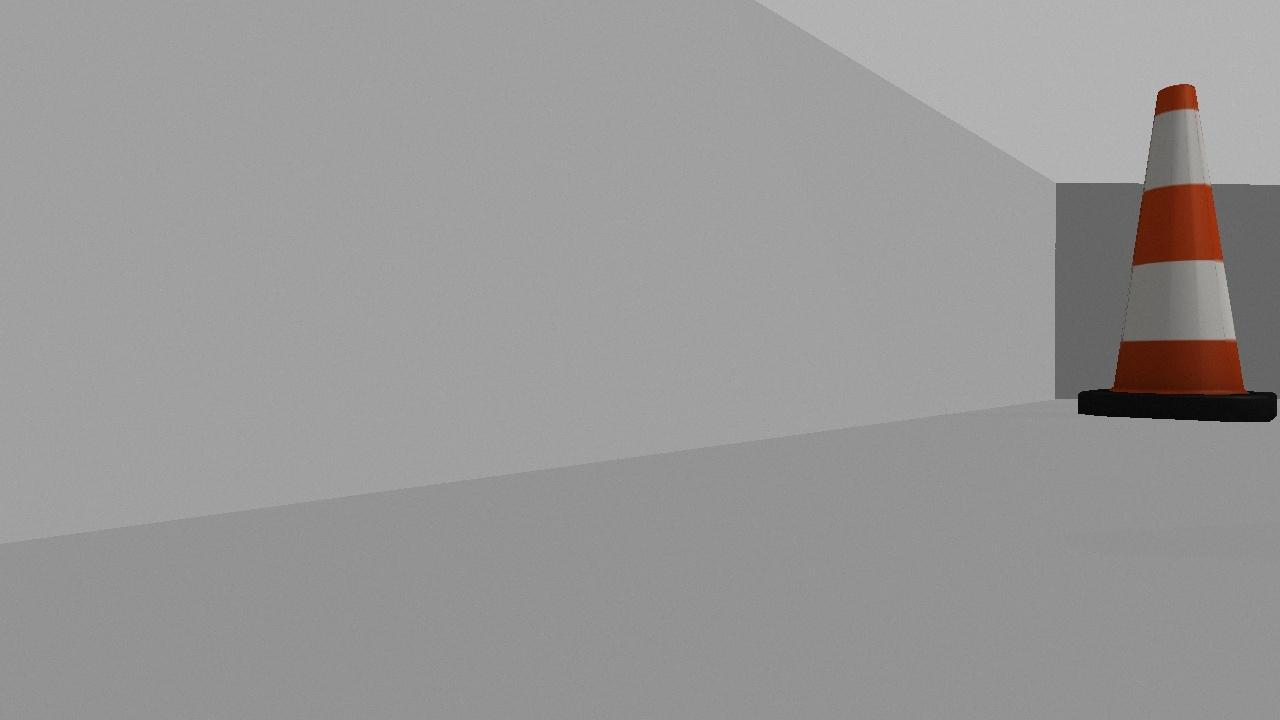cone_barrel: (1061, 70, 1279, 437)
